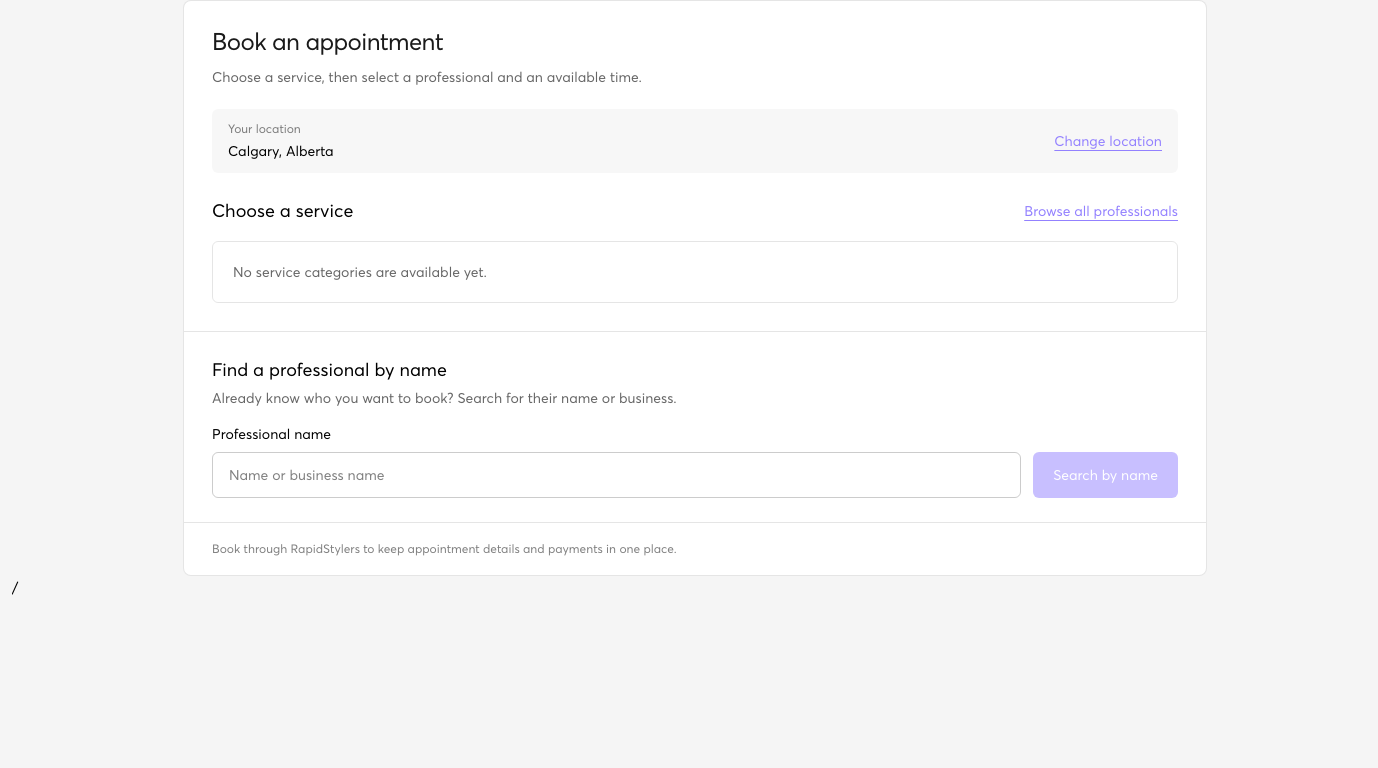
Test: uses honest category-empty copy and submits a trimmed name
The width and height of the screenshot is (1378, 768).
Check: the text "No service categories are available yet." is shown, box [212,241,1178,303]
Check: the button "Search by name" is disabled, box [1033,452,1178,498]
Type "  Ada  " into the field labelled "Professional name". click: (617, 475)
box: [212,452,1021,498]
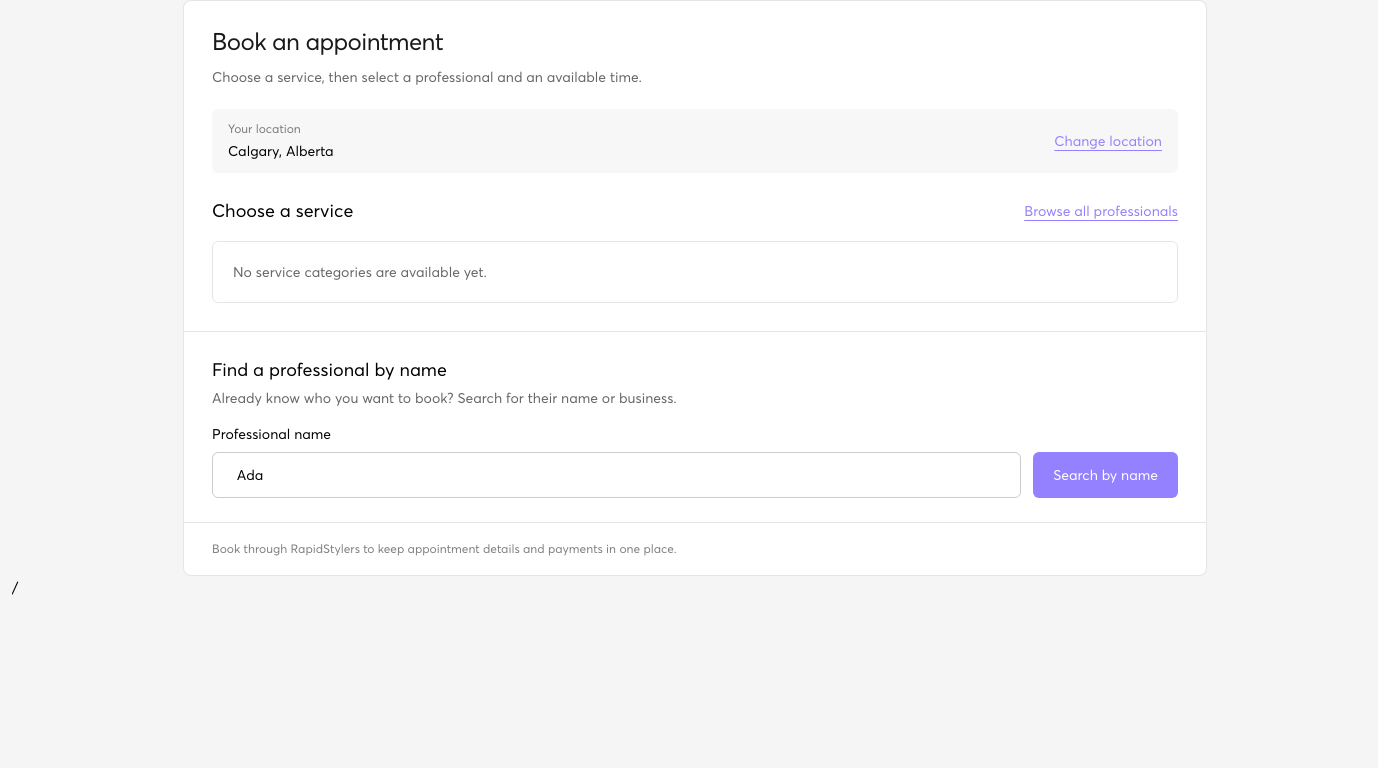
Click the button "Search by name". click: (1106, 475)
box: [1033,452,1178,498]
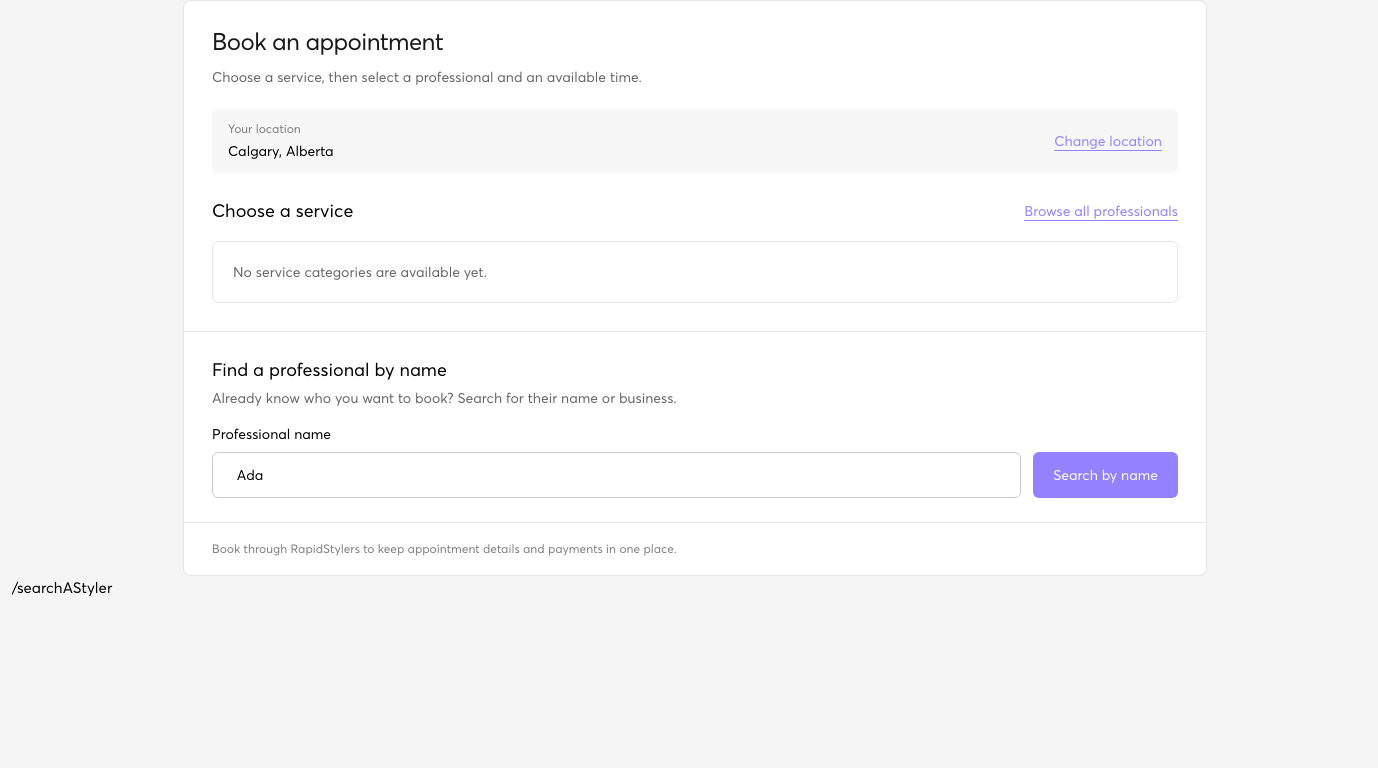
Check: the text with test id "route" reads "/searchAStyler", box [12,578,112,596]
